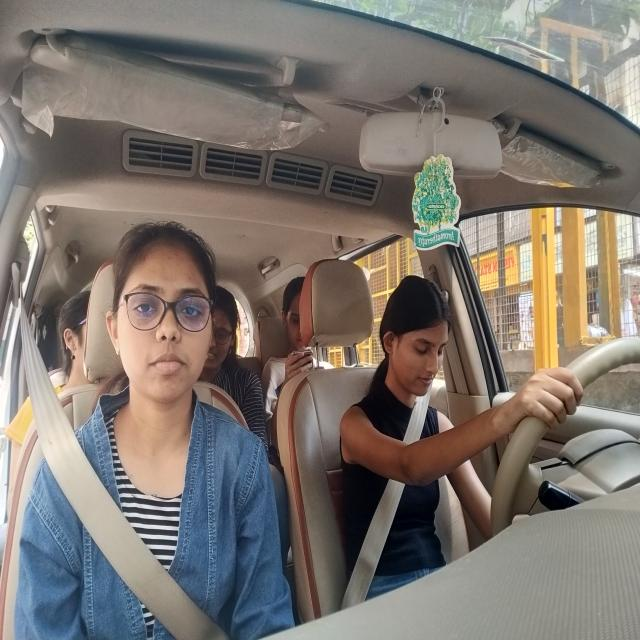drowsy: (368, 272, 462, 411)
person: (106, 212, 214, 418), (216, 270, 248, 373), (53, 286, 87, 382), (281, 274, 304, 356)
